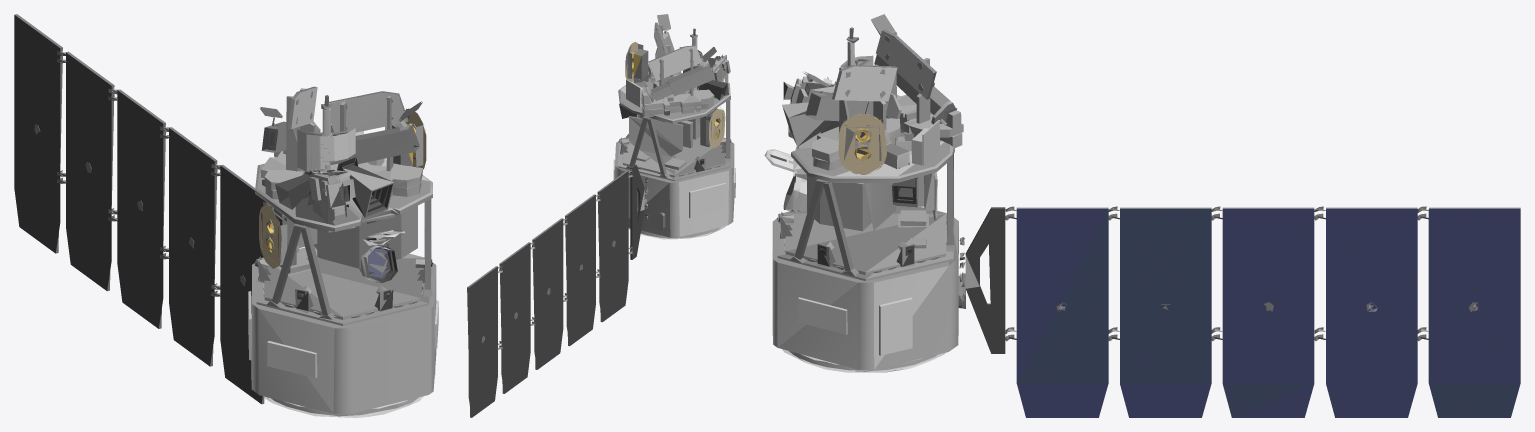
The model's file is icon.glb.
The picture shows the model from 3 angles, left to right: view 1: azimuth 30°, elevation 25°; view 2: azimuth 150°, elevation 25°; view 3: azimuth 270°, elevation 25°; orthographic projection. The views are drawn at different scales.
Visible parts, largest first — view 1: body, solar-panel; view 2: body; view 3: solar-panel, body.
Part boxes in pixels (left/top/right/bottom): body: left=14, top=14, right=438, bottom=417; solar-panel: left=368, top=248, right=390, bottom=277; body: left=467, top=14, right=735, bottom=417; solar-panel: left=1016, top=209, right=1520, bottom=417; body: left=764, top=14, right=1520, bottom=416.
Bounding box in the file's own units: 87.49 × 178 × 323.
